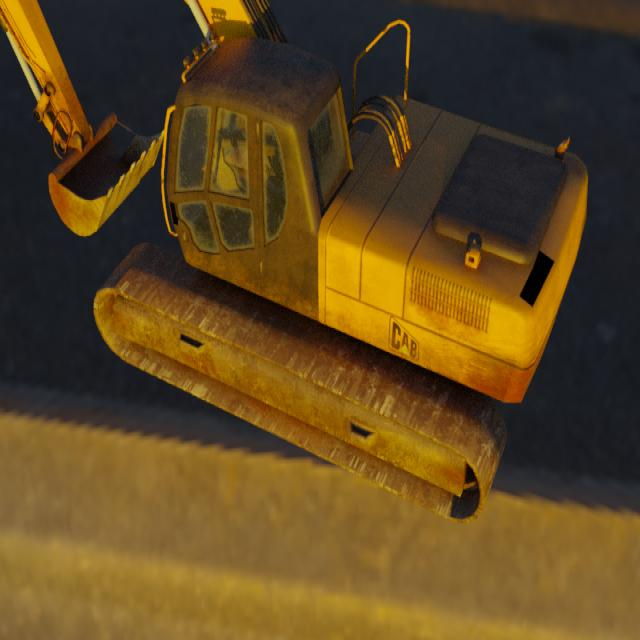excavator: (0, 0, 589, 525)
